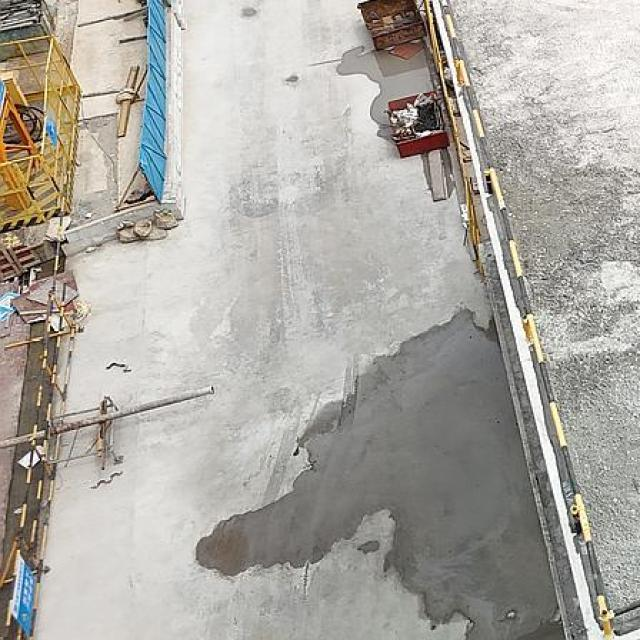edge_guardrail: (437, 0, 640, 640)
